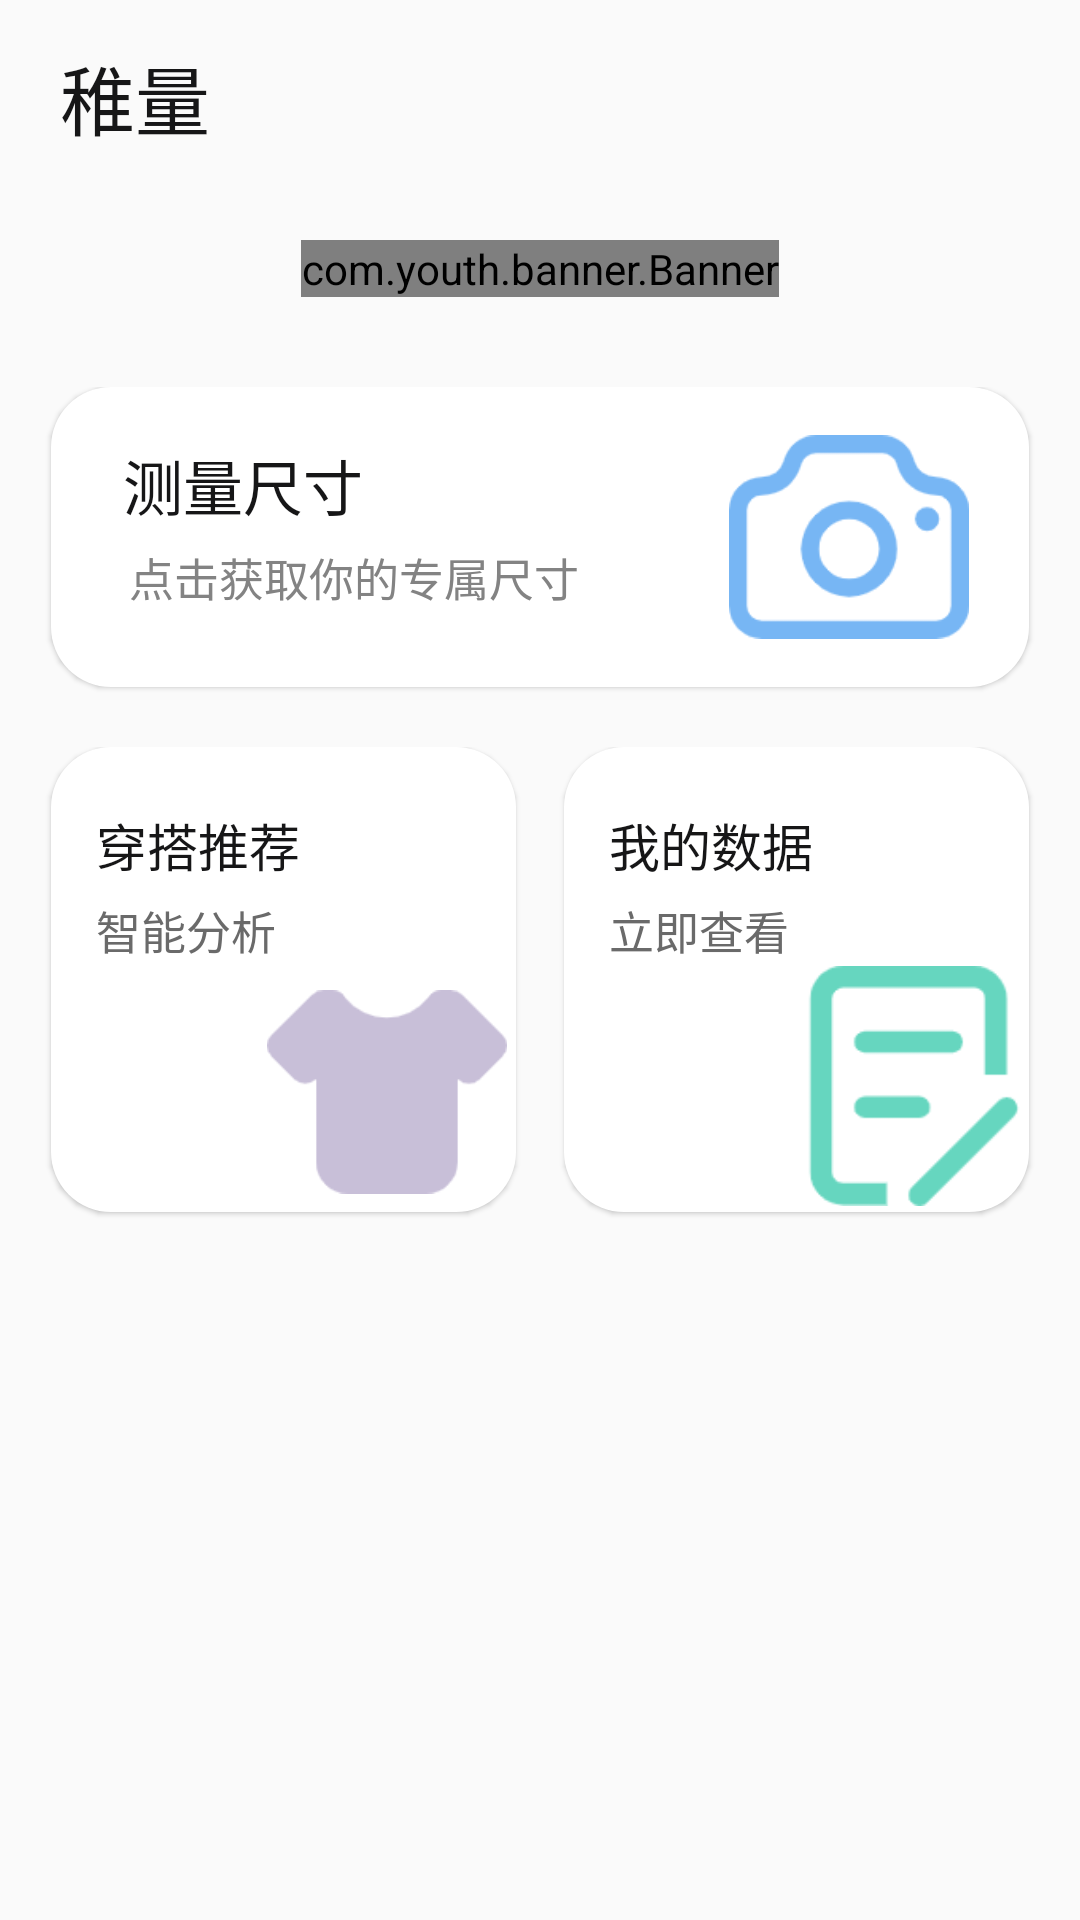

Icon bounding boxes for this 1080px×1920px phone screenshot, format (x1,y1,x2,y2):
camera: (729,435,969,639)
clothes: (267,990,507,1194)
data: (809,966,1018,1206)
